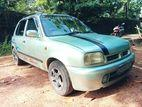car: (11, 13, 136, 96)
